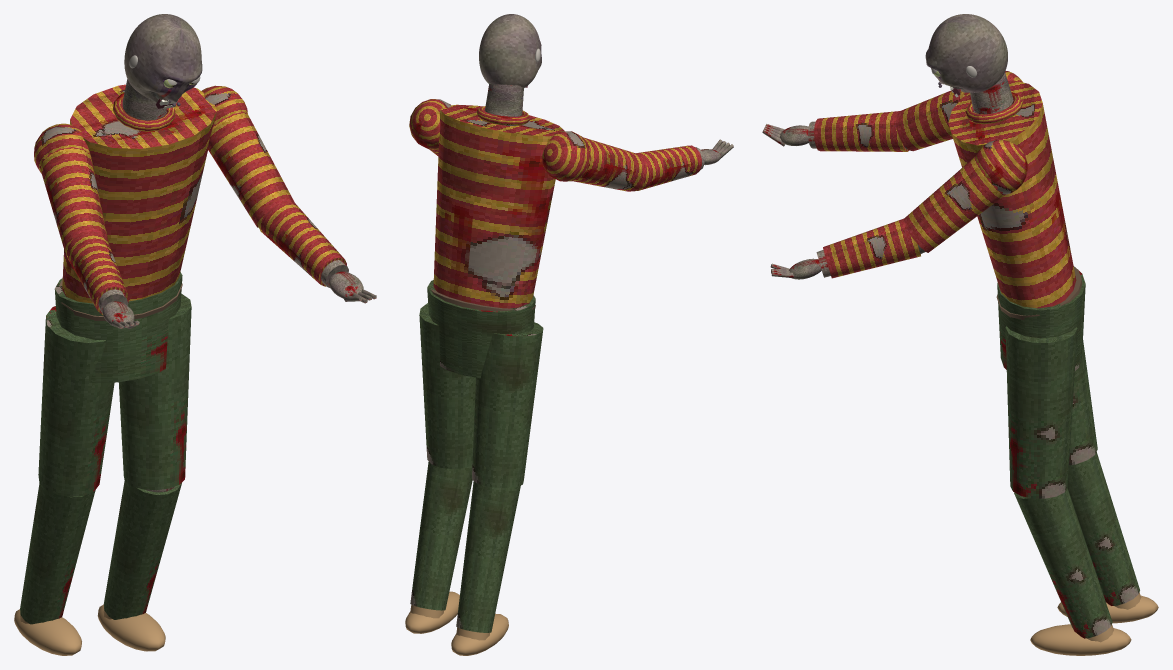
Rendered from Zombie_127.glb.
3 renders of one model, left to right at view 1: azimuth 30°, elevation 25°; view 2: azimuth 150°, elevation 25°; view 3: azimuth 270°, elevation 25°, orthographic. The views are drawn at different scales.
Parts seen in each view (by area): view 1: Zombie_127, object 18, object 12, object 4, object 13, object 5; view 2: Zombie_127, object 18, object 4; view 3: Zombie_127, object 18, object 12, object 4.
Part boxes in pixels (bbox=[...]): Zombie_127: bbox=[14, 79, 294, 655]; object 18: bbox=[124, 14, 202, 103]; object 12: bbox=[258, 200, 346, 286]; object 4: bbox=[65, 231, 129, 314]; object 13: bbox=[329, 271, 363, 298]; object 5: bbox=[102, 301, 134, 328]; Zombie_127: bbox=[405, 84, 646, 655]; object 18: bbox=[479, 14, 541, 87]; object 4: bbox=[635, 145, 701, 190]; Zombie_127: bbox=[896, 70, 1158, 655]; object 18: bbox=[925, 14, 1007, 92]; object 12: bbox=[823, 218, 920, 278]; object 4: bbox=[814, 111, 908, 151].
Bounding box in the file's own units: 0.771 × 1.9 × 1.09.
Materials: 15 (5 with a texture image).
